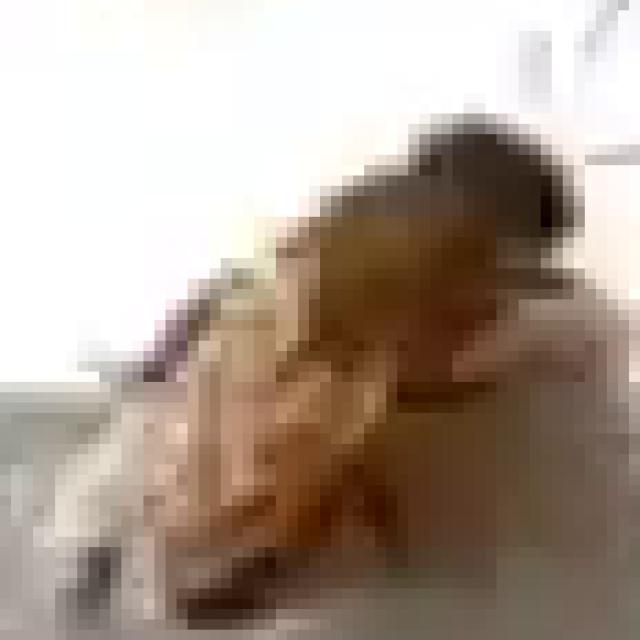honeybee: (68, 107, 558, 559)
